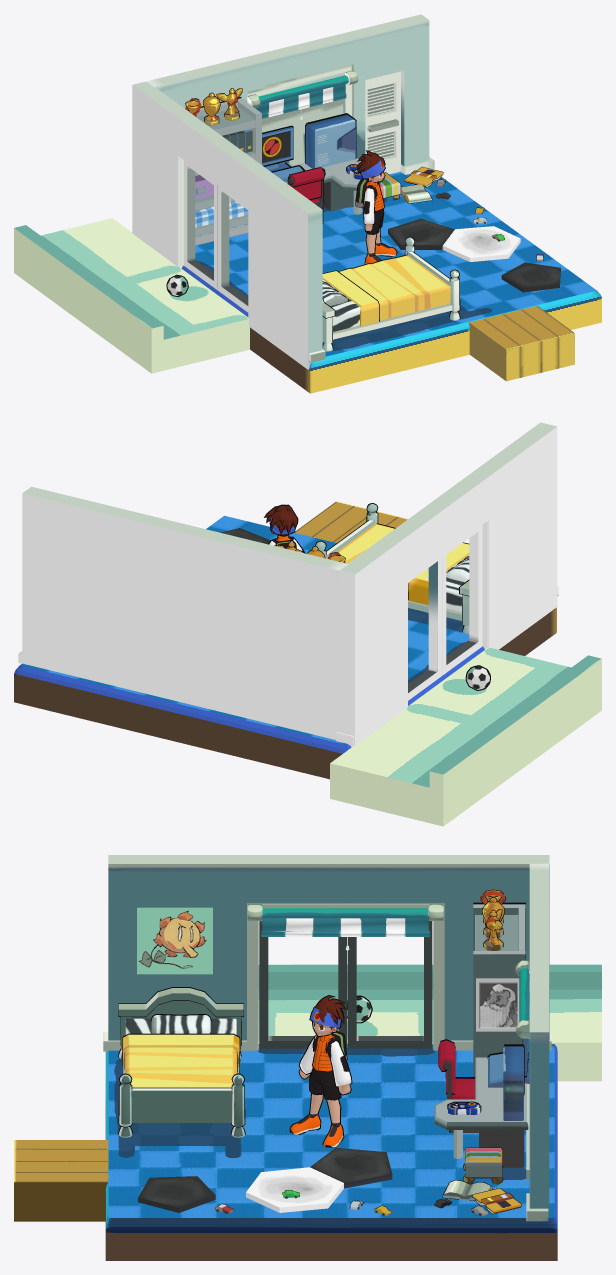
Rendered from gameroom2k.glb.
The picture shows the model from 3 angles, top to bottom: view 1: azimuth 30°, elevation 25°; view 2: azimuth 150°, elevation 25°; view 3: azimuth 270°, elevation 25°; orthographic projection. The views are drawn at different scales.
Parts seen in each view (by area): view 1: Wall_26, Outdoor_28, PIllow_8, Bookcase_11, Case_12, Left Blind.001_33, Lan.001_5, Desk_10, Floor Props.001_23, Monitor_14, Circle_6, Chair_13 (+2 smaller); view 2: Wall_26, Outdoor_28, PIllow_8, Lan.001_5; view 3: Wall_26, PIllow_8, Outdoor_28, Left Blind_27, Boktai021_31, Lan.001_5, Desk_10, Bookcase_11, Floor Props.001_23, Screenshot (14)_30, Case_12, PIllow.001_9 (+6 smaller).
Part boxes in pixels (box(x1,y1,x2,y2)): Wall_26: box(132, 14, 601, 393); Outdoor_28: box(14, 218, 249, 373); PIllow_8: box(322, 237, 459, 351); Bookcase_11: box(188, 98, 261, 245); Case_12: box(305, 114, 356, 168); Left Blind.001_33: box(247, 70, 358, 119); Lan.001_5: box(355, 150, 396, 263); Desk_10: box(285, 156, 380, 214); Floor Props.001_23: box(379, 167, 443, 203); Monitor_14: box(262, 127, 302, 182); Circle_6: box(185, 88, 242, 125); Chair_13: box(288, 168, 324, 209); Wall_26: box(14, 422, 558, 779); Outdoor_28: box(330, 647, 601, 826); PIllow_8: box(316, 503, 469, 633); Lan.001_5: box(265, 505, 303, 552); Wall_26: box(14, 855, 557, 1260); PIllow_8: box(118, 988, 244, 1137); Outdoor_28: box(258, 964, 601, 1081); Left Blind_27: box(247, 904, 443, 950); Boktai021_31: box(137, 907, 212, 974); Lan.001_5: box(290, 996, 351, 1147); Desk_10: box(434, 1057, 528, 1167); Bookcase_11: box(473, 904, 525, 1076); Floor Props.001_23: box(443, 1148, 521, 1213); Screenshot (14)_30: box(476, 978, 519, 1031); Case_12: box(503, 1046, 523, 1120); PIllow.001_9: box(118, 987, 245, 1134).
Bounding box in the file's own units: 63.44 × 27.95 × 65.84.
15 materials, 14 textured.
